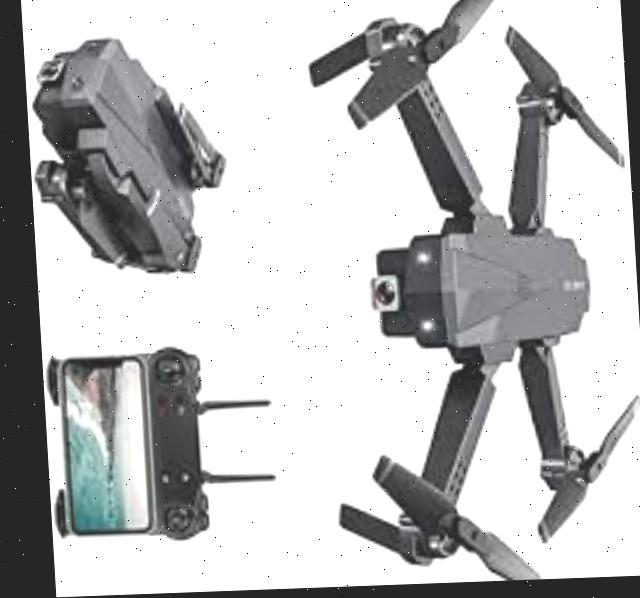drone: (261, 0, 640, 590)
